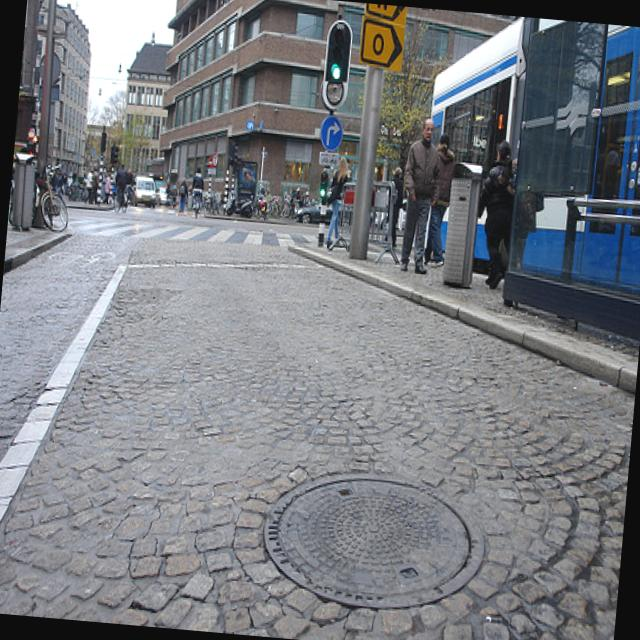Vehicle: (406, 9, 640, 378), (294, 199, 333, 226), (132, 177, 156, 210), (252, 182, 271, 222), (154, 186, 172, 208), (153, 180, 166, 192)
